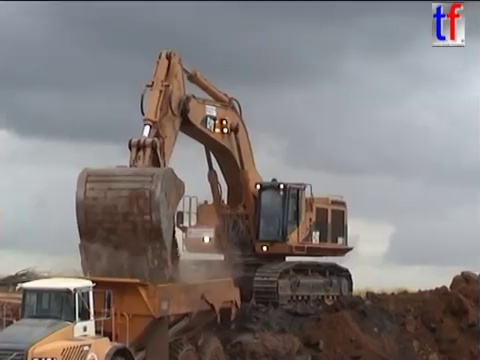excavator: (71, 47, 357, 318)
truck: (1, 269, 244, 360)
